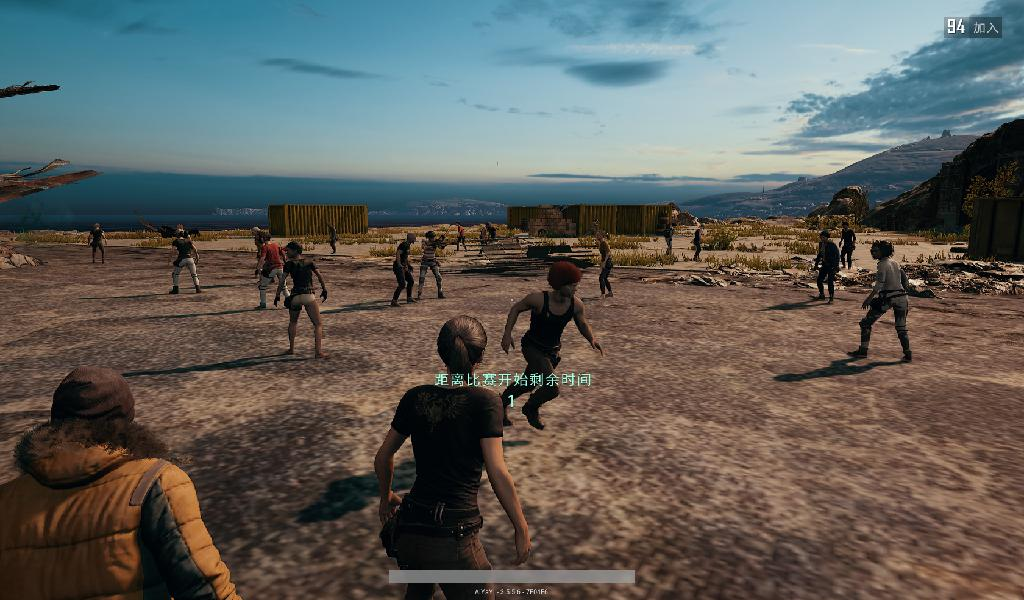Target Person: (1, 365, 240, 598), (373, 315, 534, 600), (501, 262, 606, 433), (851, 241, 915, 364), (278, 243, 327, 358), (253, 231, 290, 313), (167, 226, 202, 297), (417, 227, 448, 298), (813, 229, 840, 308), (390, 232, 417, 307), (588, 230, 615, 300), (836, 221, 858, 273), (86, 219, 108, 269), (659, 221, 678, 263), (323, 219, 340, 256), (692, 223, 705, 265), (452, 221, 468, 253), (481, 221, 491, 263)
